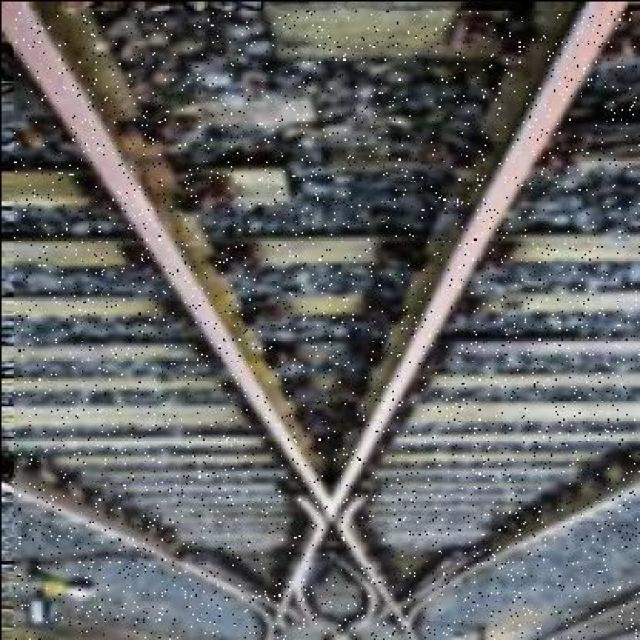rail: (12, 9, 640, 640)
